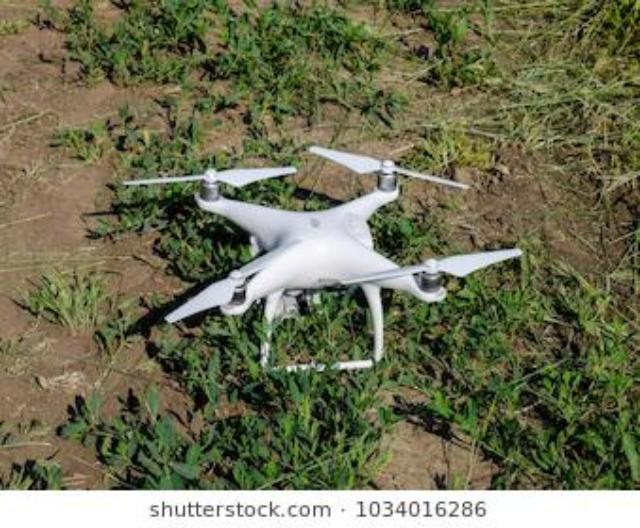drone: (112, 113, 526, 422)
